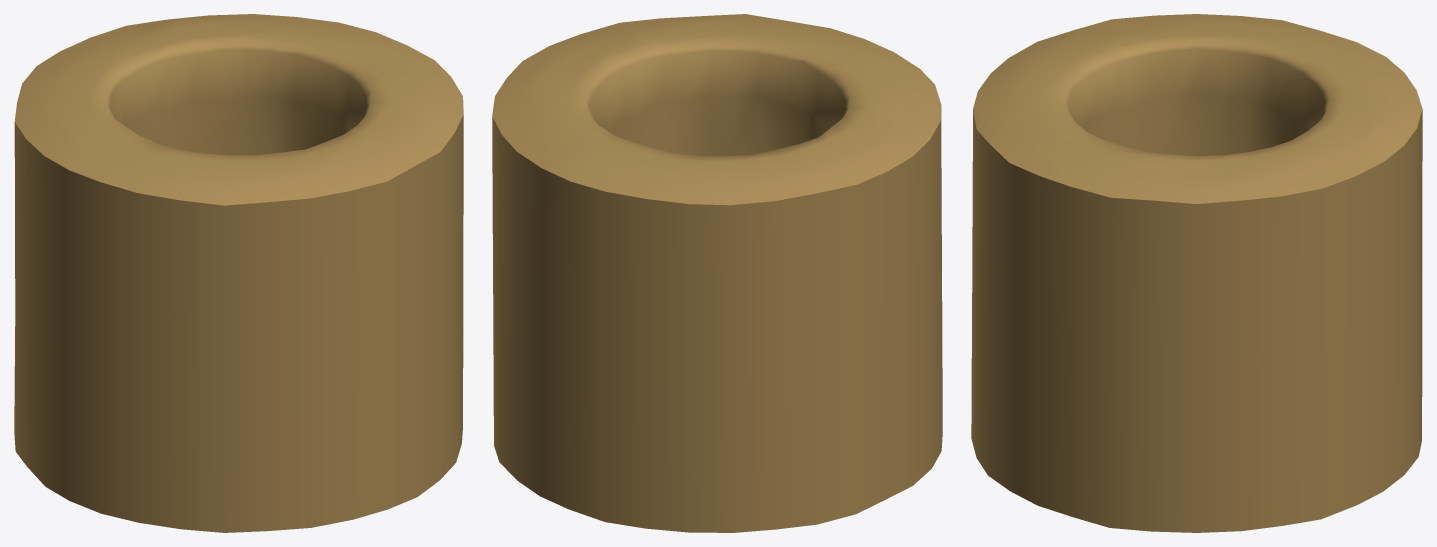
File: SM_TusssockLandscapeHole.fbx
3 renders of one model, left to right at view 1: azimuth 30°, elevation 25°; view 2: azimuth 150°, elevation 25°; view 3: azimuth 270°, elevation 25°, orthographic.
Parts seen in each view (by area): view 1: Cylinder; view 2: Cylinder; view 3: Cylinder.
Boxes of the visible parts, box(x1,y1,x2,y2) form: Cylinder: box(14, 14, 463, 532); Cylinder: box(492, 14, 942, 532); Cylinder: box(971, 14, 1422, 532).
Size of the model in its own units: 3470 by 2915 by 3471.
